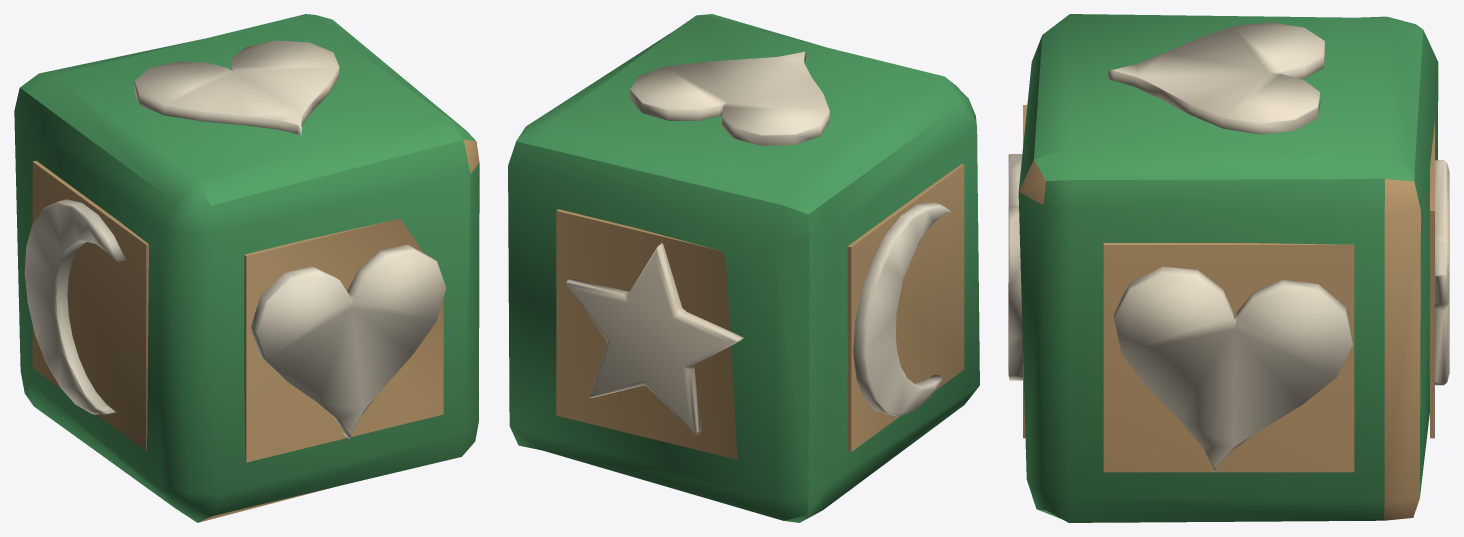
Rendered from den_block_green_lod1.glb.
3 views of the same model, side by side, from view 1: azimuth 30°, elevation 25°; view 2: azimuth 150°, elevation 25°; view 3: azimuth 270°, elevation 25° (orthographic). The views are drawn at different scales.
Visible parts, largest first — view 1: den_block_green.001; view 2: den_block_green.001; view 3: den_block_green.001.
Part boxes in pixels (left/top/right/bottom): den_block_green.001: left=14, top=14, right=479, bottom=522; den_block_green.001: left=508, top=14, right=979, bottom=522; den_block_green.001: left=1008, top=14, right=1449, bottom=522.
Bounding box in the file's own units: 4.93 × 4.81 × 4.93.
